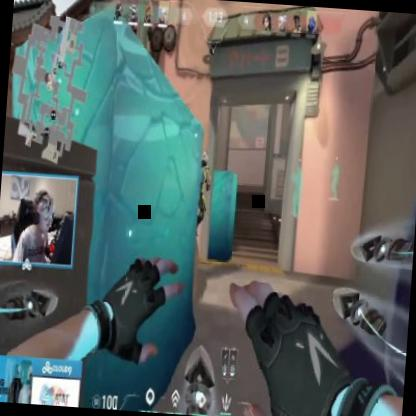enemy: (186, 148, 214, 245)
enemy_head: (202, 150, 209, 166)
